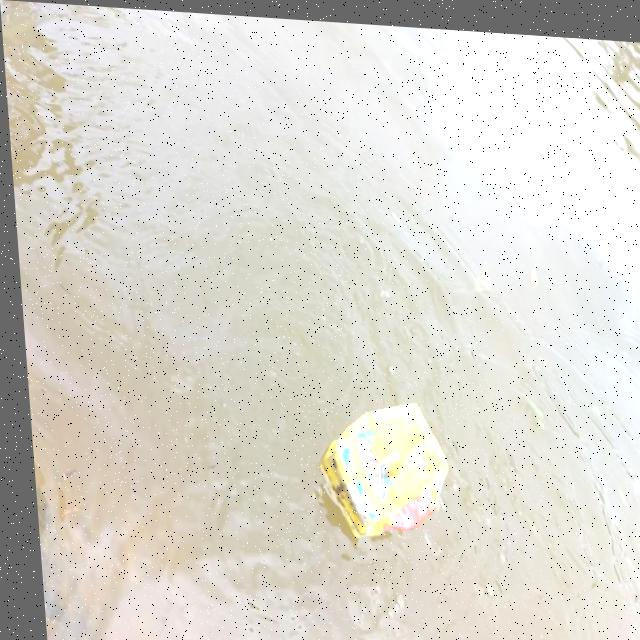paper: (305, 366, 464, 549)
